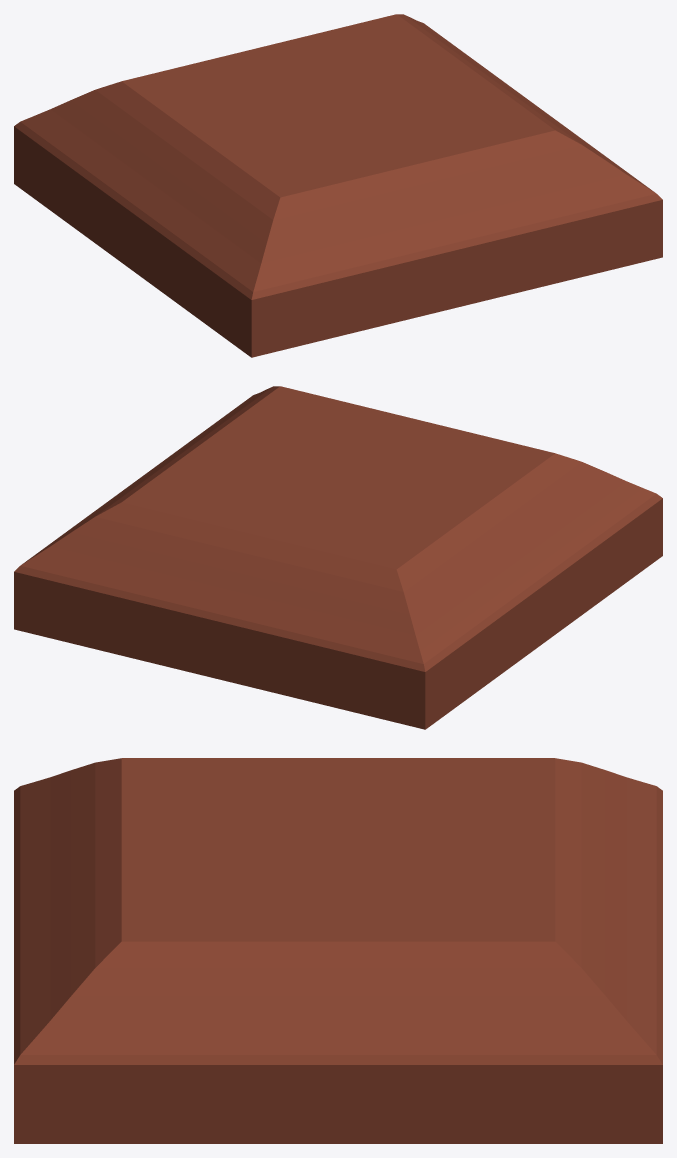
The model's file is goal_tile.glb.
3 renders of one model, top to bottom at view 1: azimuth 30°, elevation 25°; view 2: azimuth 150°, elevation 25°; view 3: azimuth 270°, elevation 25°, orthographic. The views are drawn at different scales.
Parts seen in each view (by area): view 1: goal_tile; view 2: goal_tile; view 3: goal_tile.
Boxes of the visible parts, bbox=[...] form: goal_tile: bbox=[14, 14, 662, 357]; goal_tile: bbox=[14, 386, 662, 729]; goal_tile: bbox=[14, 758, 662, 1143].
Bounding box in the file's own units: 0.75 × 0.2 × 0.75.
